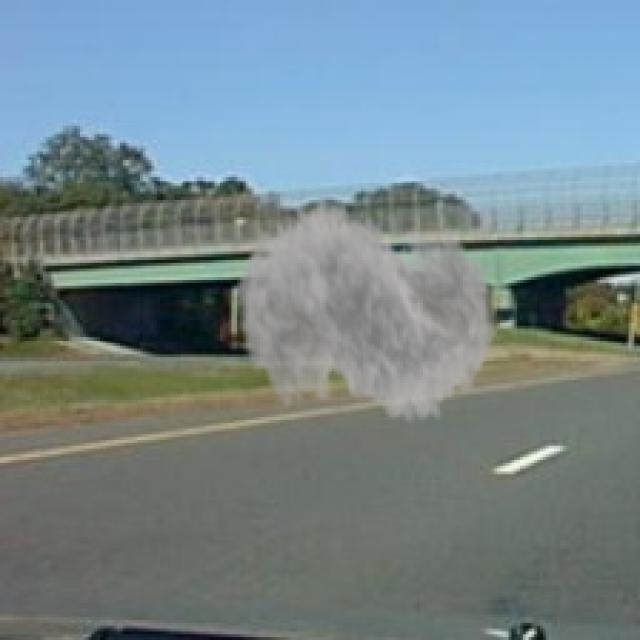Smoke: (234, 180, 497, 452)
